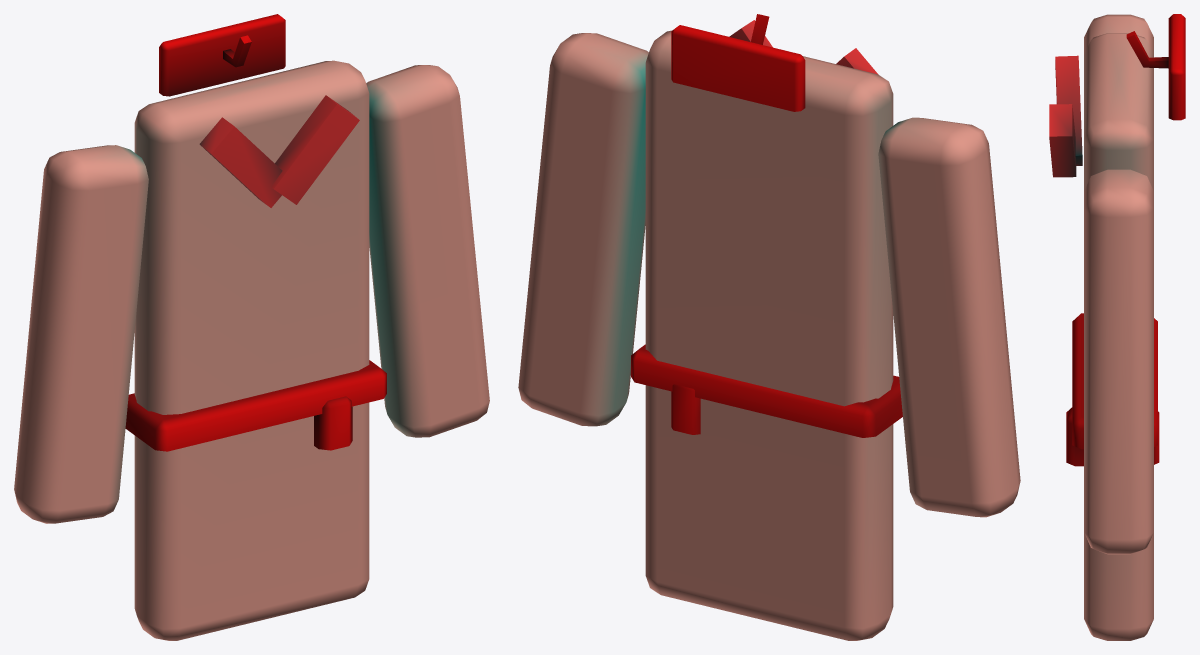
The model's file is CI_Bedroom_Robe_Hook.glb.
3 views of the same model, side by side, from view 1: azimuth 30°, elevation 25°; view 2: azimuth 150°, elevation 25°; view 3: azimuth 270°, elevation 25° (orthographic). The views are drawn at different scales.
Visible parts, largest first — view 1: CI_Bedroom_Robe_Hook; view 2: CI_Bedroom_Robe_Hook; view 3: CI_Bedroom_Robe_Hook.
Part boxes in pixels (bbox=[...]): CI_Bedroom_Robe_Hook: bbox=[14, 14, 489, 640]; CI_Bedroom_Robe_Hook: bbox=[518, 14, 1020, 640]; CI_Bedroom_Robe_Hook: bbox=[1049, 14, 1185, 640].
Size of the model in its own units: 0.6732 by 0.8025 by 0.176.
